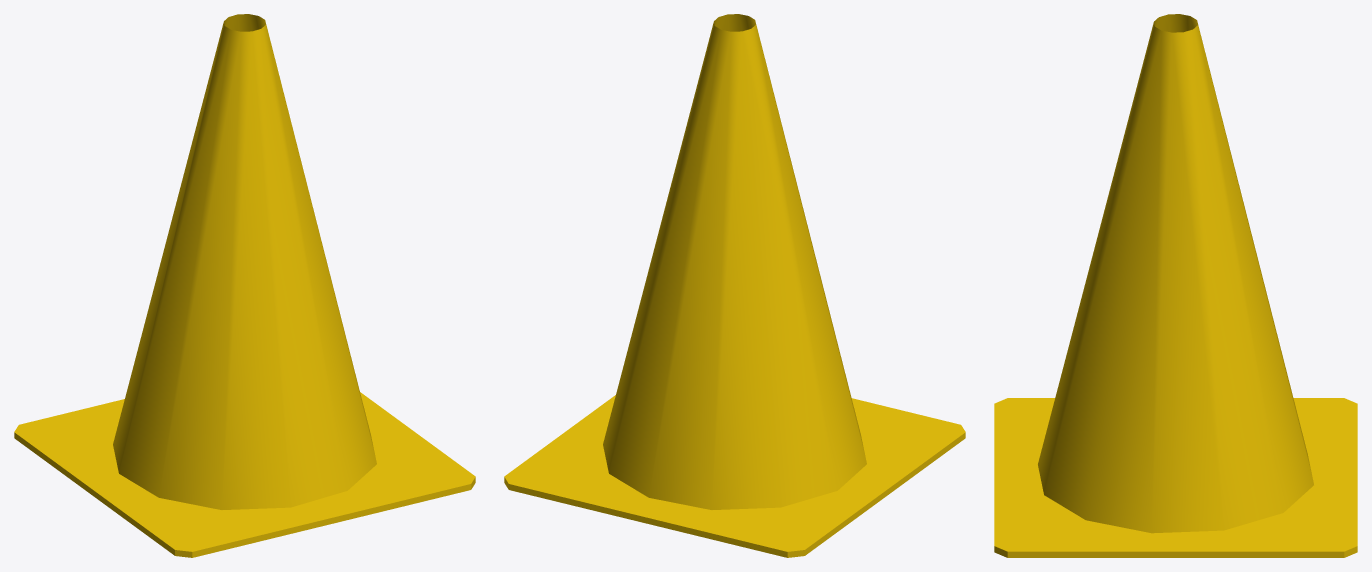
3 views of the same model, side by side, from view 1: azimuth 30°, elevation 25°; view 2: azimuth 150°, elevation 25°; view 3: azimuth 270°, elevation 25° (orthographic). The views are drawn at different scales.
Parts seen in each view (by area): view 1: SketchUp.001, SketchUp; view 2: SketchUp.001, SketchUp; view 3: SketchUp.001, SketchUp.
Part boxes in pixels (box(x1,y1,x2,y2)): SketchUp.001: box(113, 14, 376, 509); SketchUp: box(14, 392, 475, 557); SketchUp.001: box(603, 14, 866, 509); SketchUp: box(504, 395, 965, 557); SketchUp.001: box(1038, 14, 1313, 533); SketchUp: box(994, 398, 1357, 557).
Bounding box in the file's own units: 0.3288 × 0.3288 × 0.4572.
